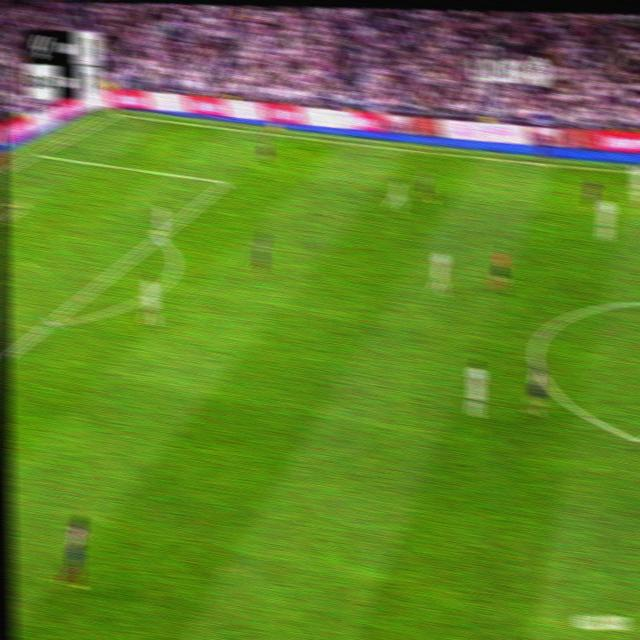bigarea_top_inner: (218, 173, 231, 190)
bigarea_top_outter: (33, 147, 44, 159)
bottom_arc_area_intersection: (44, 311, 60, 332)
corner: (109, 107, 123, 119)
smallarea_top_inner: (18, 200, 29, 212)
top_arc_area_intersection: (152, 226, 167, 244)
